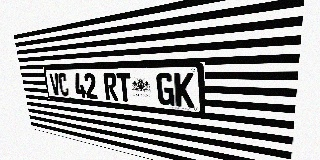2: (84, 73, 98, 99)
4: (73, 73, 87, 98)
C: (57, 73, 69, 97)
G: (156, 73, 175, 106)
K: (174, 73, 195, 108)
R: (103, 73, 118, 101)
T: (116, 73, 132, 102)
V: (49, 73, 61, 96)
